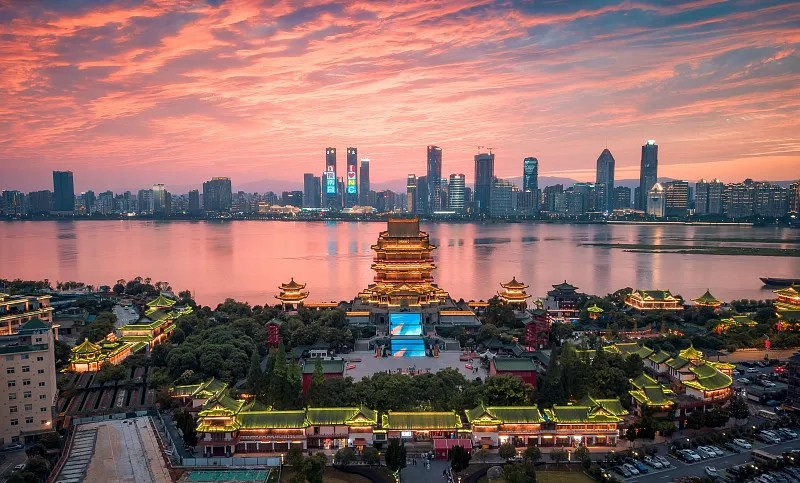Teng: (358, 215, 449, 310)
